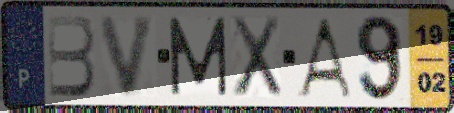9: (353, 13, 407, 103)
A: (293, 15, 355, 100)
B: (45, 12, 99, 99)
M: (166, 15, 231, 98)
V: (97, 13, 160, 100)
X: (229, 14, 284, 101)
